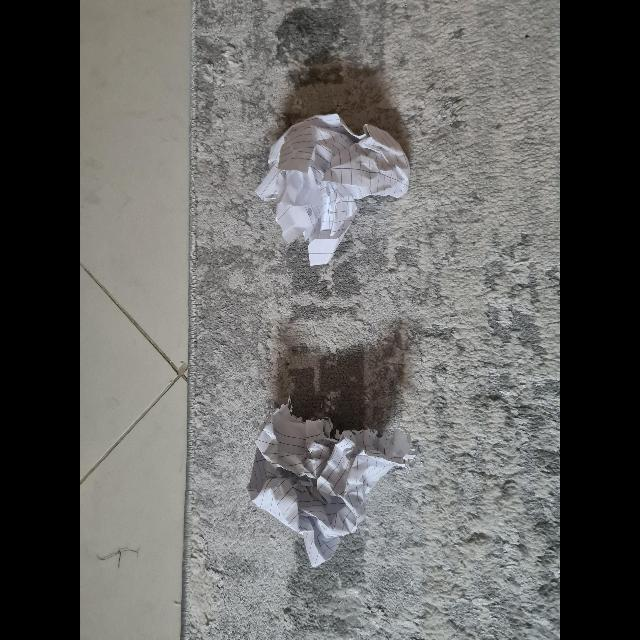scrap_paper: (245, 401, 392, 564), (263, 112, 409, 256)
